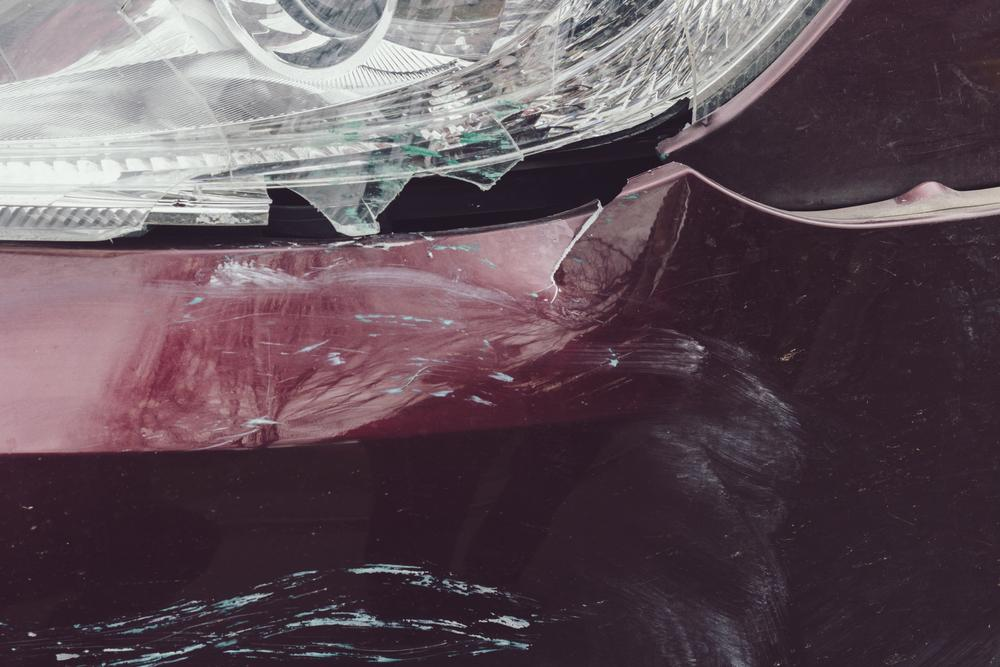crack: (550, 185, 628, 302)
dent: (134, 272, 483, 445)
lamp broken: (0, 0, 830, 245)
scratch: (0, 290, 808, 667)
